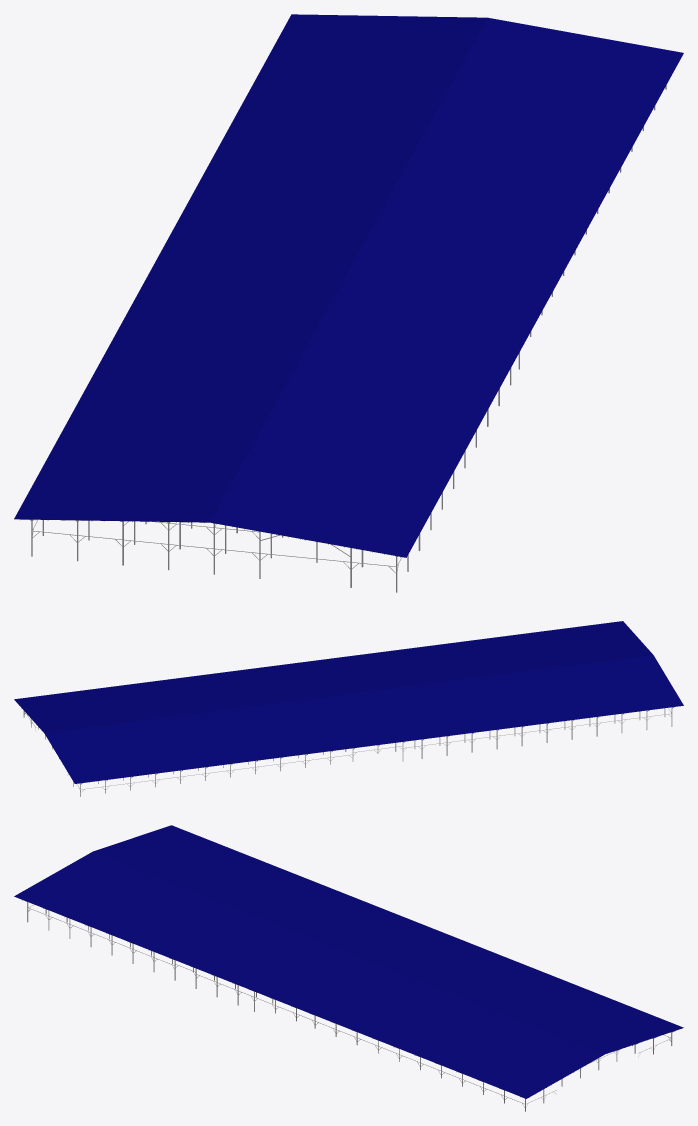
3 renders of one model, top to bottom at view 1: azimuth 30°, elevation 25°; view 2: azimuth 150°, elevation 25°; view 3: azimuth 270°, elevation 25°, orthographic. The views are drawn at different scales.
Size of the model in its own units: 96.73 by 5.68 by 100.
